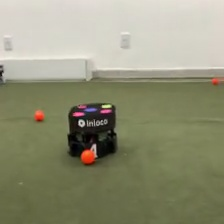ball: (78, 147, 96, 166), (33, 108, 45, 123), (211, 75, 221, 85)
goal: (1, 55, 94, 82)
robot: (64, 100, 121, 159)
